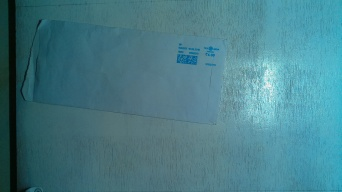l: (21, 15, 230, 137)
